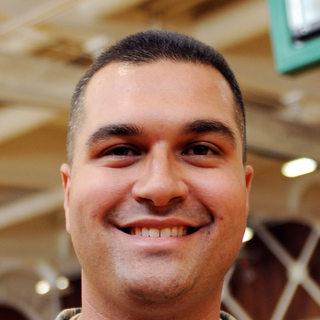eye: (90, 140, 145, 161), (176, 138, 224, 161)
